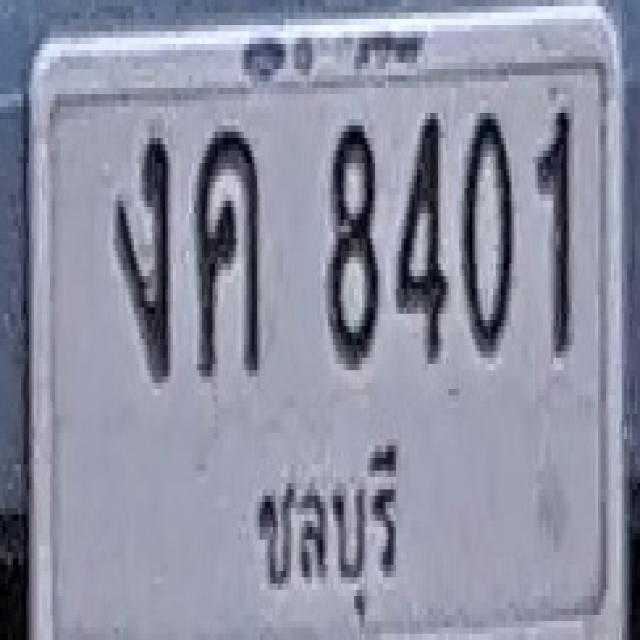0: (460, 110, 513, 354)
1: (535, 103, 572, 354)
4: (395, 107, 447, 364)
8: (327, 119, 379, 364)
A04: (195, 126, 261, 377)
A07: (113, 132, 170, 383)
CBI: (252, 444, 401, 639)
